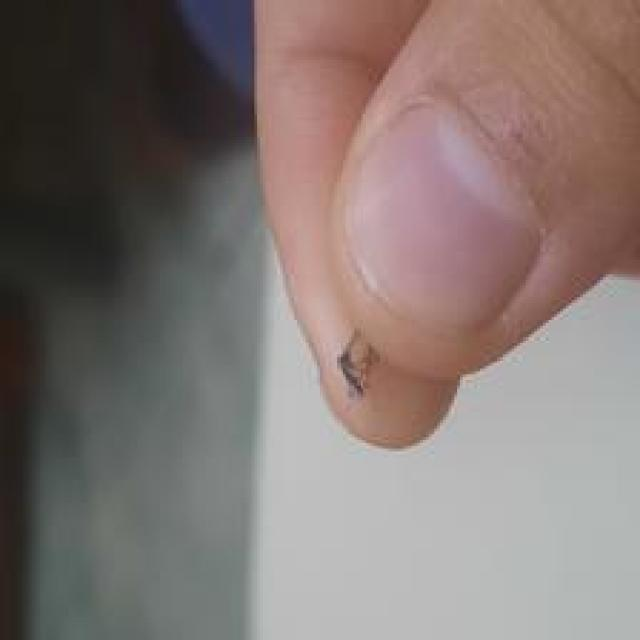Aedes albopictus: (336, 327, 381, 402)
